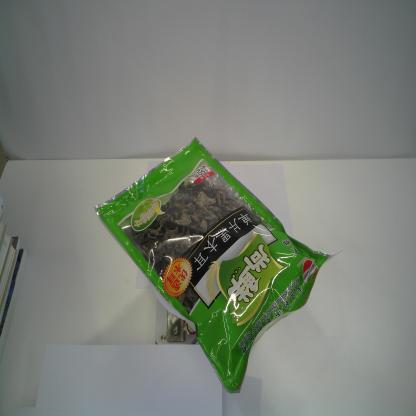Dried Food: (92, 131, 345, 397)
